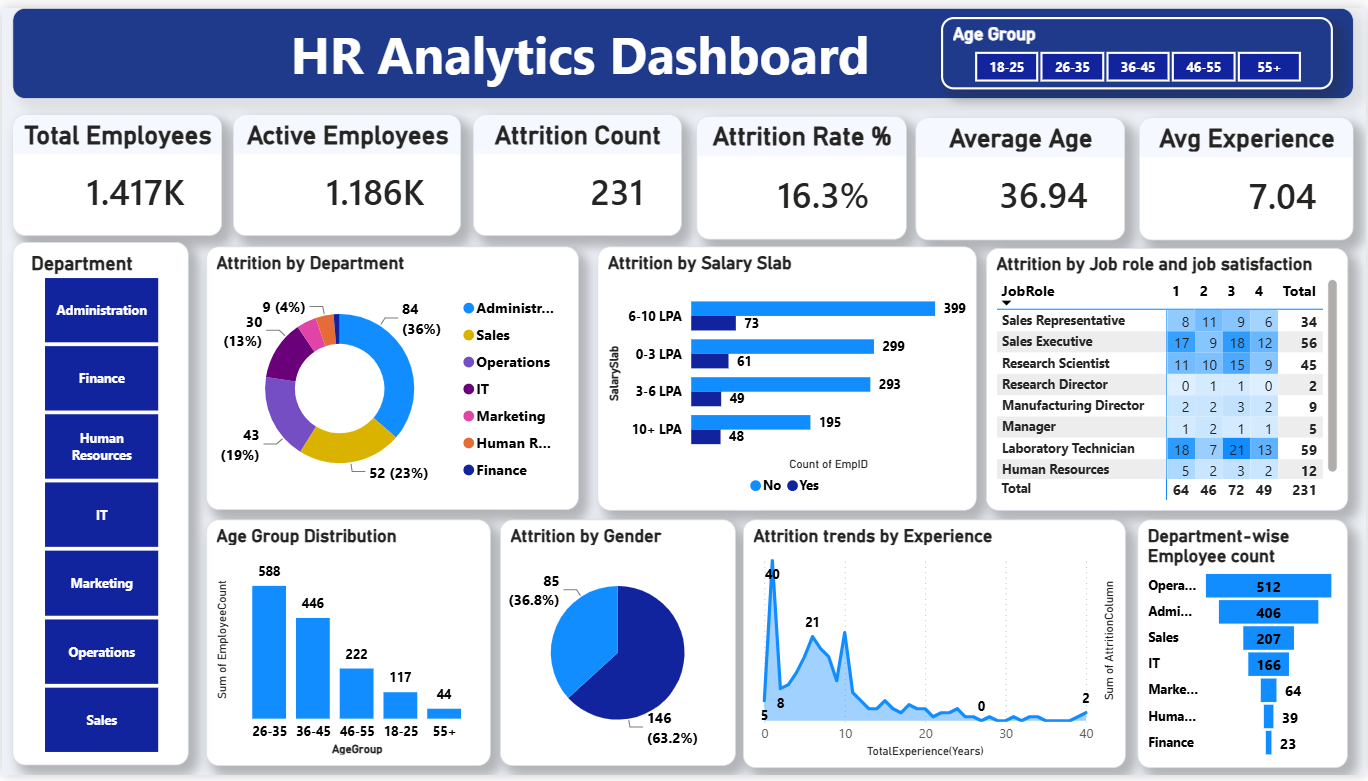

This screenshot's page, from the dashboard's own definition file:
{"tool":"powerbi","page":{"name":"Page 1","canvas":[1280,720],"ordinal":0},"visuals":[{"type":"textbox","box":[9.4,0,1259,85],"z":0},{"type":"cardVisual","title":"Total Employees","fields":{"Data":["CountNonNull(HR_Analytics-4.EmpID)"]},"box":[10,100,196.7,114.2],"z":1000},{"type":"cardVisual","title":"Active Employees","fields":{"Data":["CountNonNull(HR_Analytics-4.EmployeeCount)"]},"box":[217.1,100,214.3,114.3],"z":2000},{"type":"cardVisual","title":"Attrition Count","fields":{"Data":["Sum(HR_Analytics-4.AttritionColumn)"]},"box":[442.9,100,195.7,114.3],"z":3000},{"type":"cardVisual","title":"Attrition Rate %","fields":{"Data":["HR_Analytics-4.Attrition Rate %"]},"box":[651.4,101.4,197.1,115.7],"z":4000},{"type":"cardVisual","title":"Average Age ","fields":{"Data":["Avg(HR_Analytics-4.Age)"]},"box":[858.3,103.3,196.7,115],"z":5000},{"type":"cardVisual","title":"Avg Experience","fields":{"Data":["Avg(HR_Analytics-4.YearsatCompany)"]},"box":[1066.9,103.1,201.5,115.4],"z":6000},{"type":"donutChart","title":"Attrition by Department","fields":{"Category":["HR_Analytics-4.Department"],"Y":["Sum(HR_Analytics-4.AttritionColumn)"]},"box":[191.2,223.8,350,247.5],"z":7000},{"type":"clusteredBarChart","title":"Attrition by Salary Slab","fields":{"Category":["HR_Analytics-4.SalarySlab"],"Y":["CountNonNull(HR_Analytics-4.EmpID)"],"Series":["HR_Analytics-4.Attrition"]},"box":[559,224,356,248],"z":8000},{"type":"pivotTable","title":"Attrition by Job role and job satisfaction ","fields":{"Rows":["HR_Analytics-4.JobRole"],"Values":["Sum(HR_Analytics-4.AttritionColumn)"],"Columns":["HR_Analytics-4.JobSatisfaction"]},"box":[923.3,225,340,246.7],"z":9000},{"type":"columnChart","title":"Age Group Distribution ","fields":{"Category":["HR_Analytics-4.AgeGroup"],"Y":["Sum(HR_Analytics-4.EmployeeCount)"]},"box":[191,480,267,231],"z":10000},{"type":"pieChart","title":"Attrition by Gender","fields":{"Category":["HR_Analytics-4.Gender"],"Y":["Sum(HR_Analytics-4.AttritionColumn)"]},"box":[468,480,221,231],"z":11000},{"type":"areaChart","title":"Attrition trends by Experience","fields":{"Category":["HR_Analytics-4.TotalExperience(Years)"],"Y2":["Sum(HR_Analytics-4.AttritionColumn)"]},"box":[696,480,359,233],"z":12000},{"type":"funnel","title":"Department-wise Employee count","fields":{"Category":["HR_Analytics-4.Department"],"Y":["CountNonNull(HR_Analytics-4.EmpID)"]},"box":[1066,480,197,233],"z":13000},{"type":"slicer","fields":{"Values":["HR_Analytics-4.Department"]},"box":[10,220,165.6,491.1],"z":14000},{"type":"slicer","title":"Age Group","fields":{"Values":["HR_Analytics-4.AgeGroup"]},"box":[881.8,9.1,368.2,68.2],"z":15000}]}

Visuals, with their boxes in screenshot pixels (x1, y1, x2, y2), scaled from the page's 1280x720 canvas onto the 1368x781 screenshot:
textbox: 10,0,1356,92
"Total Employees" cardVisual: 11,108,221,232
"Active Employees" cardVisual: 232,108,461,232
"Attrition Count" cardVisual: 473,108,683,232
"Attrition Rate %" cardVisual: 696,110,907,235
"Average Age " cardVisual: 917,112,1128,237
"Avg Experience" cardVisual: 1140,112,1356,237
"Attrition by Department" donutChart: 204,243,578,511
"Attrition by Salary Slab" clusteredBarChart: 597,243,978,512
"Attrition by Job role and job satisfaction " pivotTable: 987,244,1350,512
"Age Group Distribution " columnChart: 204,521,489,771
"Attrition by Gender" pieChart: 500,521,736,771
"Attrition trends by Experience" areaChart: 744,521,1128,773
"Department-wise Employee count" funnel: 1139,521,1350,773
slicer - HR_Analytics-4.Department: 11,239,188,771
"Age Group" slicer: 942,10,1336,84
